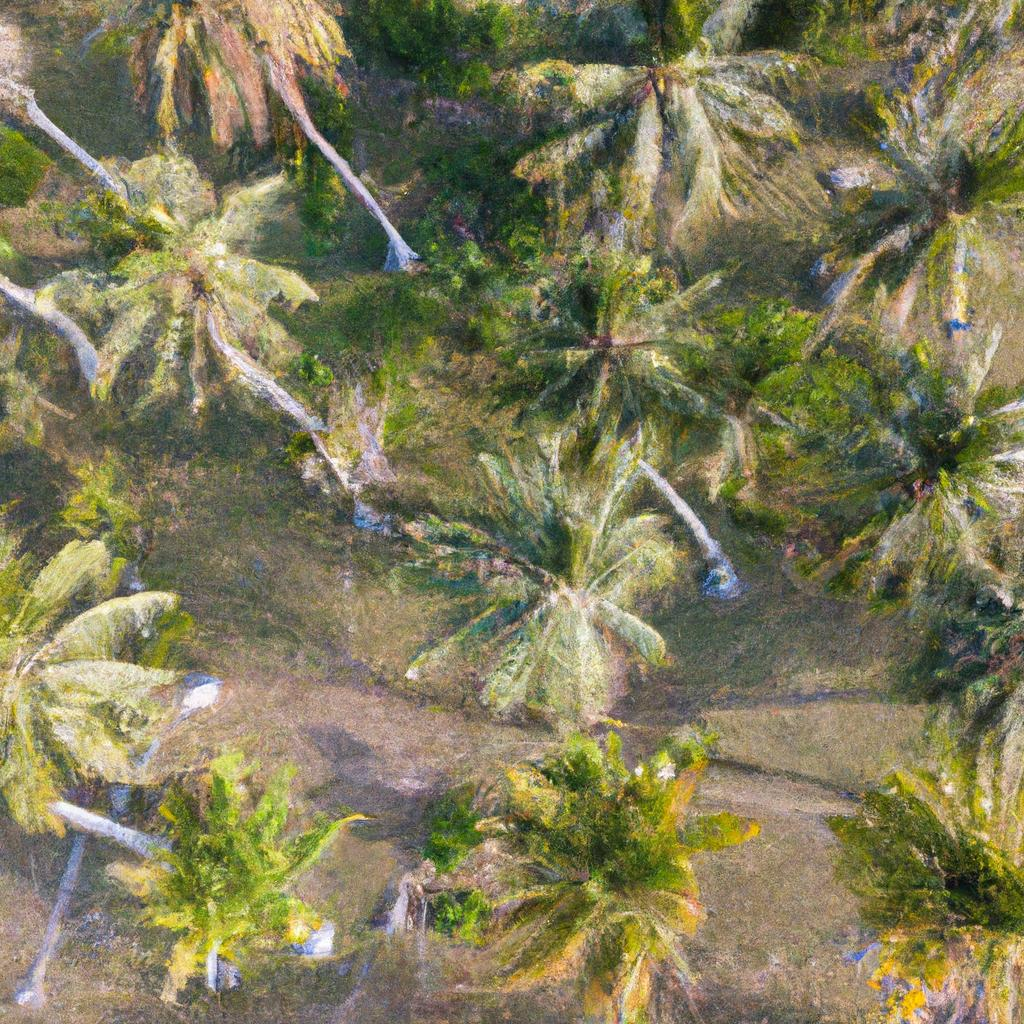coconut_tree: (416, 701, 790, 1015), (390, 401, 685, 745), (492, 8, 839, 266), (39, 143, 319, 435), (106, 735, 349, 1005)
